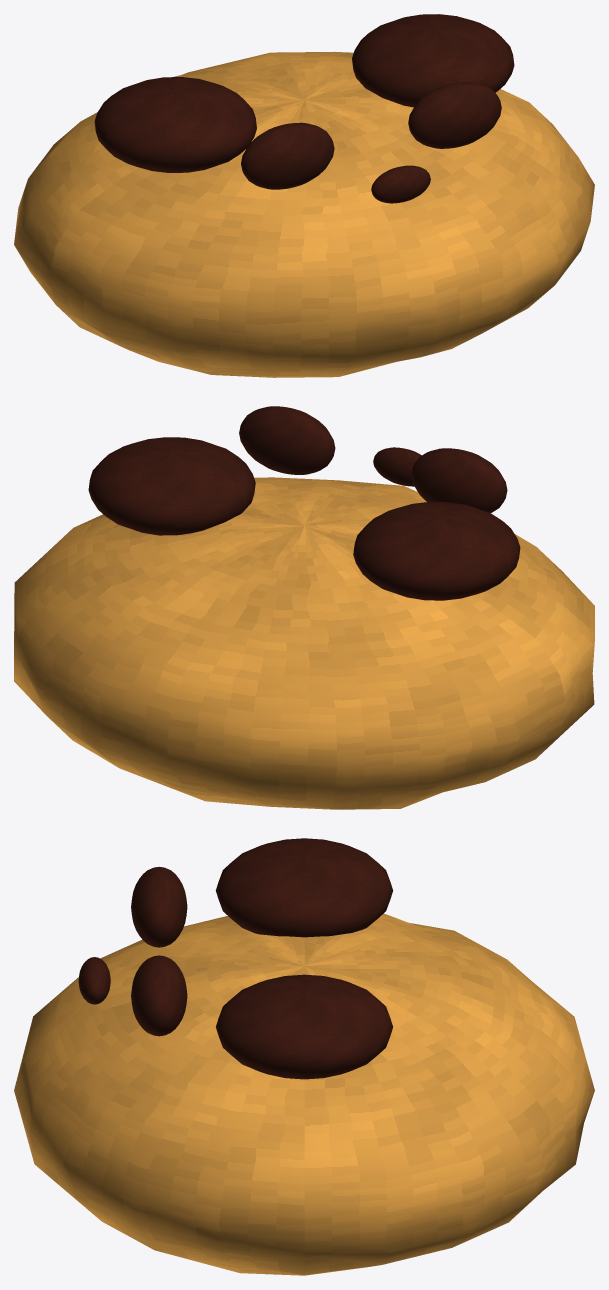
Rendered from bread_panda_choco.glb.
3 views of the same model, one above another, from view 1: azimuth 30°, elevation 25°; view 2: azimuth 150°, elevation 25°; view 3: azimuth 270°, elevation 25° (orthographic). The views are drawn at different scales.
Parts seen in each view (by area): view 1: 動物ビスケット.001, パンダの耳, パンダの耳.001, パンダの目.001, パンダの目, パンダの鼻; view 2: 動物ビスケット.001, パンダの耳, パンダの耳.001, パンダの目.001, パンダの目, パンダの鼻; view 3: 動物ビスケット.001, パンダの耳.001, パンダの耳, パンダの目.001, パンダの目, パンダの鼻.
Boxes of the visible parts, x1,y1,x2,y2 form: 動物ビスケット.001: (14,51,594,377); パンダの耳: (94,77,256,172); パンダの耳.001: (352,14,514,107); パンダの目.001: (408,82,501,148); パンダの目: (241,122,334,189); パンダの鼻: (371,165,430,203); 動物ビスケット.001: (14,477,594,809); パンダの耳: (353,501,520,600); パンダの耳.001: (88,437,255,535); パンダの目.001: (239,406,335,474); パンダの目: (411,448,507,512); パンダの鼻: (373,447,421,486); 動物ビスケット.001: (14,913,594,1275); パンダの耳.001: (216,974,392,1079); パンダの耳: (215,838,393,937); パンダの目.001: (131,955,187,1036); パンダの目: (131,866,187,947); パンダの鼻: (78,957,110,1004).
Bounding box in the file's own units: 0.7929 × 0.405 × 0.72.
2 materials, 2 textured.
